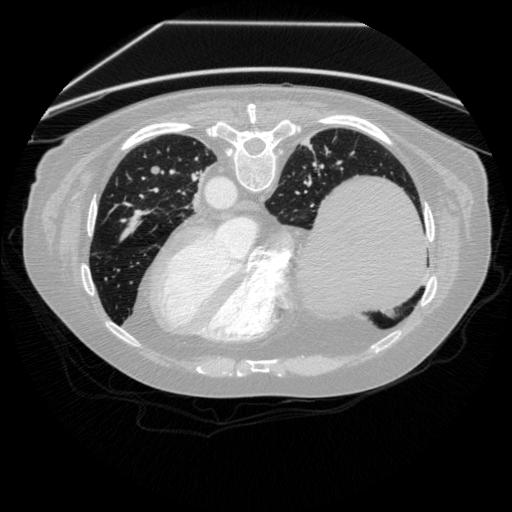nodule: (150, 164, 164, 178)
